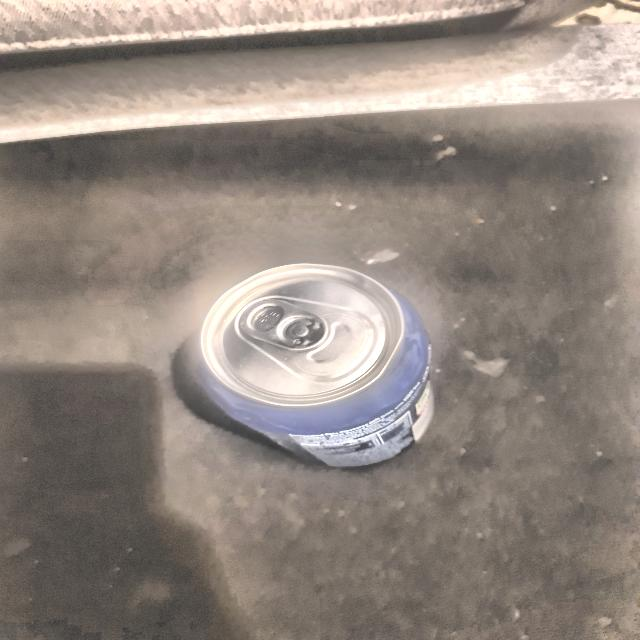pepsi-can: (196, 264, 442, 468)
